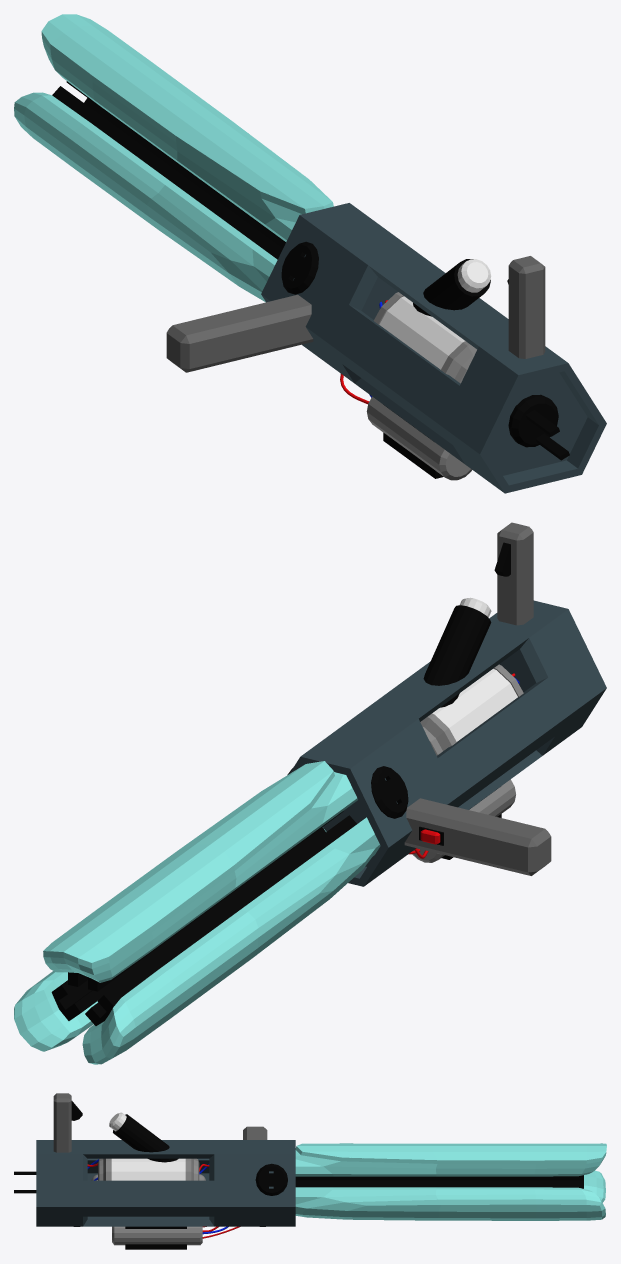
File: Railgun.fbx
3 renders of one model, top to bottom at view 1: azimuth 30°, elevation 25°; view 2: azimuth 150°, elevation 25°; view 3: azimuth 270°, elevation 25°, orthographic. The views are drawn at different scales.
Parts seen in each view (by area): view 1: Cylinder, Cube.002, Cube.011, Cube, Cube.003, Cylinder.005, Cube.004, Cube.010, Cylinder.002, Cylinder.001, Cube.009, Cylinder.006 (+2 smaller); view 2: Cylinder, Cube.002, Cube.011, Cube, Cube.003, Cube.010, Cube.001, Cylinder.006, Cube.004, Cube.009, Cylinder.002, Cylinder.005 (+3 smaller); view 3: Cylinder, Cube.001, Cube, Cube.011, Cylinder.002, Cylinder.001, Cube.009, Cube.012, Cylinder.006, Cube.010, Cube.004, Cylinder.005 (+4 smaller).
Boxes of the visible parts, bbox=[...] form: Cylinder: bbox=[261, 203, 606, 493]; Cube.002: bbox=[14, 92, 277, 302]; Cube.011: bbox=[41, 14, 332, 208]; Cube: bbox=[41, 32, 333, 241]; Cube.003: bbox=[166, 294, 313, 372]; Cylinder.005: bbox=[281, 241, 569, 460]; Cube.004: bbox=[508, 256, 545, 358]; Cube.010: bbox=[52, 86, 282, 259]; Cylinder.002: bbox=[379, 296, 465, 369]; Cylinder.001: bbox=[366, 396, 471, 480]; Cube.009: bbox=[84, 98, 285, 248]; Cylinder.006: bbox=[413, 259, 490, 316]; Cylinder: bbox=[289, 600, 606, 886]; Cube.002: bbox=[82, 817, 380, 1064]; Cube.011: bbox=[43, 761, 333, 962]; Cube: bbox=[43, 771, 357, 982]; Cube.003: bbox=[404, 798, 551, 875]; Cube.010: bbox=[85, 815, 356, 1025]; Cube.001: bbox=[14, 829, 326, 1051]; Cylinder.006: bbox=[423, 605, 491, 707]; Cube.004: bbox=[497, 522, 533, 625]; Cube.009: bbox=[51, 827, 325, 1020]; Cylinder.002: bbox=[432, 668, 517, 741]; Cylinder.005: bbox=[287, 766, 408, 818]; Cylinder: bbox=[36, 1140, 295, 1226]; Cube.001: bbox=[295, 1187, 605, 1220]; Cube: bbox=[295, 1143, 606, 1176]; Cube.011: bbox=[297, 1143, 606, 1160]; Cylinder.002: bbox=[111, 1158, 185, 1180]; Cylinder.001: bbox=[112, 1226, 202, 1245]; Cube.009: bbox=[295, 1183, 583, 1188]; Cube.012: bbox=[295, 1175, 583, 1180]; Cylinder.006: bbox=[113, 1114, 178, 1162]; Cube.010: bbox=[295, 1180, 583, 1183]; Cube.004: bbox=[53, 1093, 71, 1152]; Cylinder.005: bbox=[14, 1163, 287, 1226].
Bounding box in the file's own units: 1048 × 992 × 3649.
